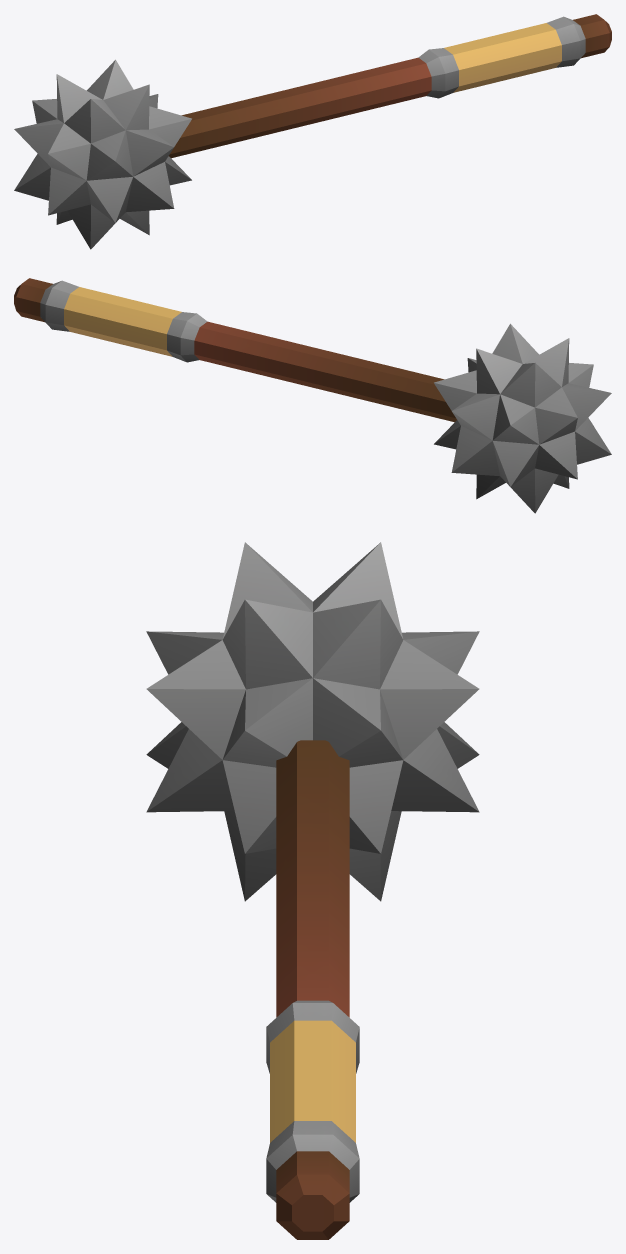
Rendered from morningstar.glb.
The picture shows the model from 3 angles, top to bottom: view 1: azimuth 30°, elevation 25°; view 2: azimuth 150°, elevation 25°; view 3: azimuth 270°, elevation 25°; orthographic projection. The views are drawn at different scales.
Visible parts, largest first — view 1: MorningStar_mesh1; view 2: MorningStar_mesh1; view 3: MorningStar_mesh1.
Boxes of the visible parts, x1,y1,x2,y2 form: MorningStar_mesh1: [14, 14, 611, 249]; MorningStar_mesh1: [14, 278, 611, 513]; MorningStar_mesh1: [146, 542, 479, 1239].
Size of the model in its own units: 0.7638 by 0.1915 by 0.1915.
Materials: 1 (1 with a texture image).
